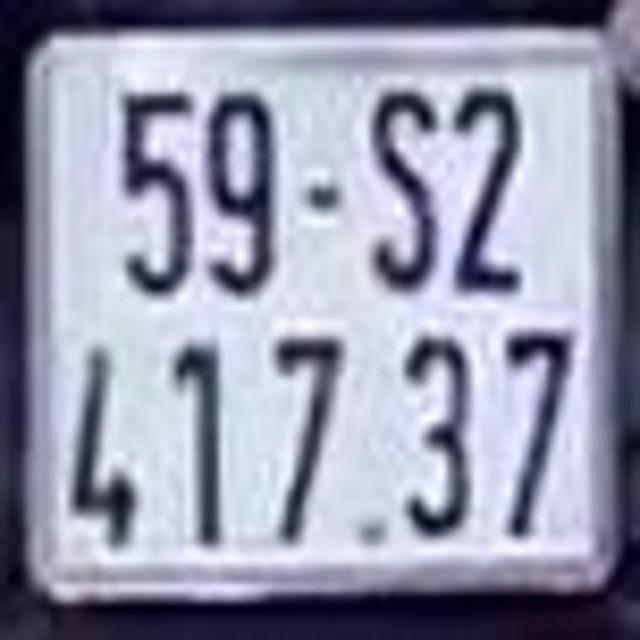1: (172, 338, 230, 548)
2: (452, 84, 526, 295)
3: (402, 329, 472, 537)
4: (67, 345, 140, 549)
5: (117, 85, 197, 297)
7: (503, 327, 578, 540), (270, 331, 344, 543)
9: (204, 85, 277, 298)
S: (368, 84, 441, 290)
